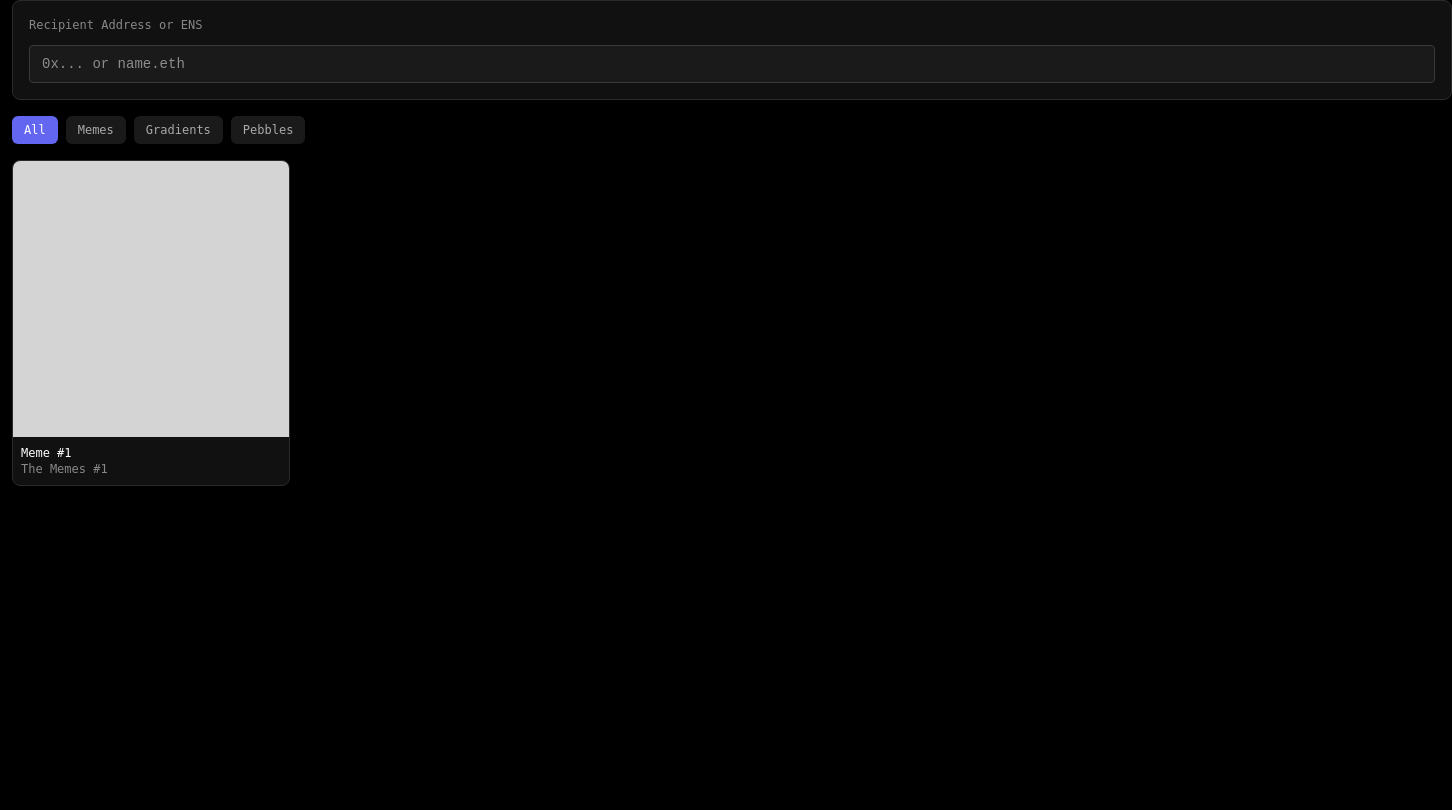
Test: TransferTab chain ID guard › blocks transfer and shows error on wrong chain
Note: Enter a recipient
Type "0xabcdefabcdefabcdefabcdefabcdefabcdefabcd" into the field with placeholder "0x... or name.eth" at (732, 64), box [29,45,1435,83]
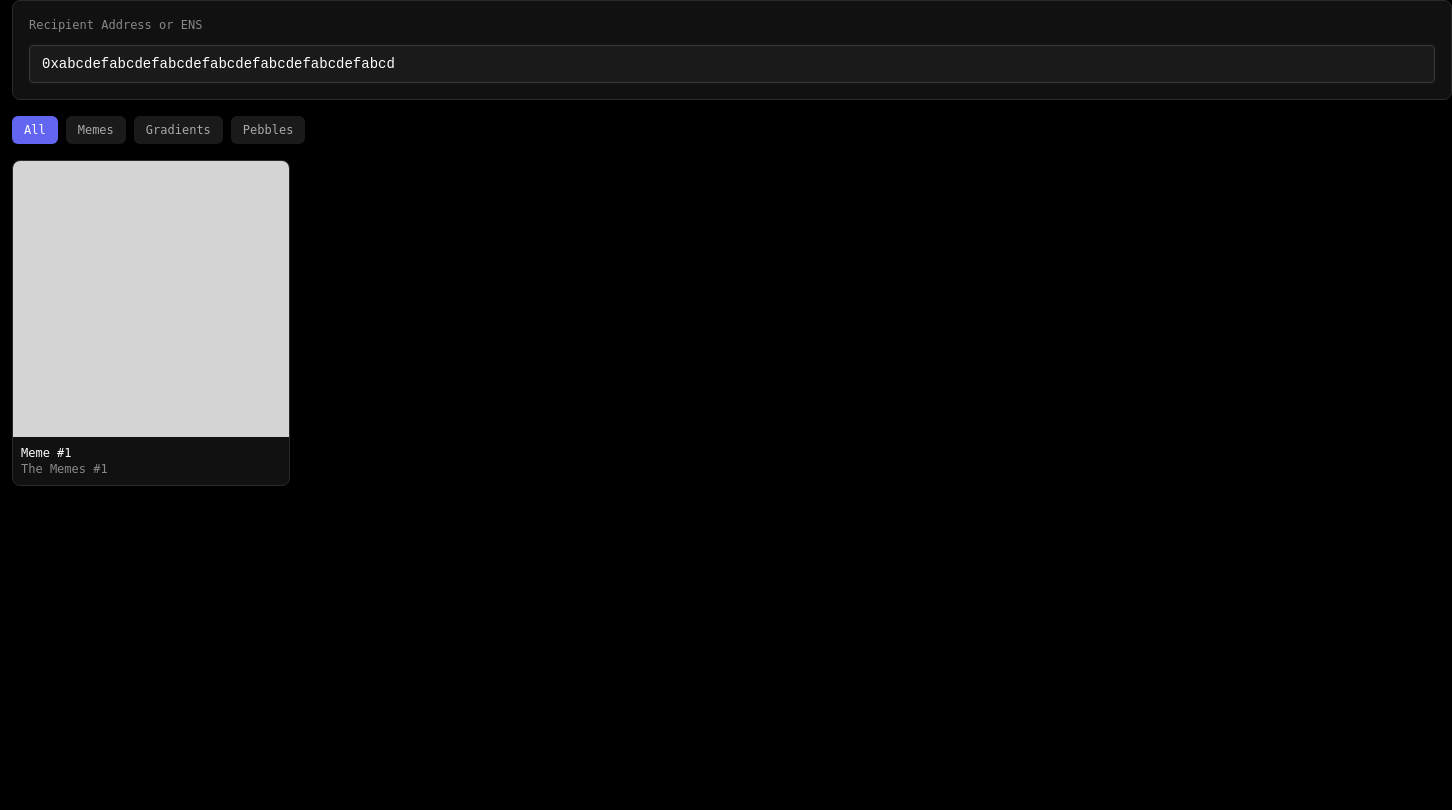
Note: Select an NFT by clicking on it
Click the text "Meme #1" at (46, 453), box [21,446,72,460]
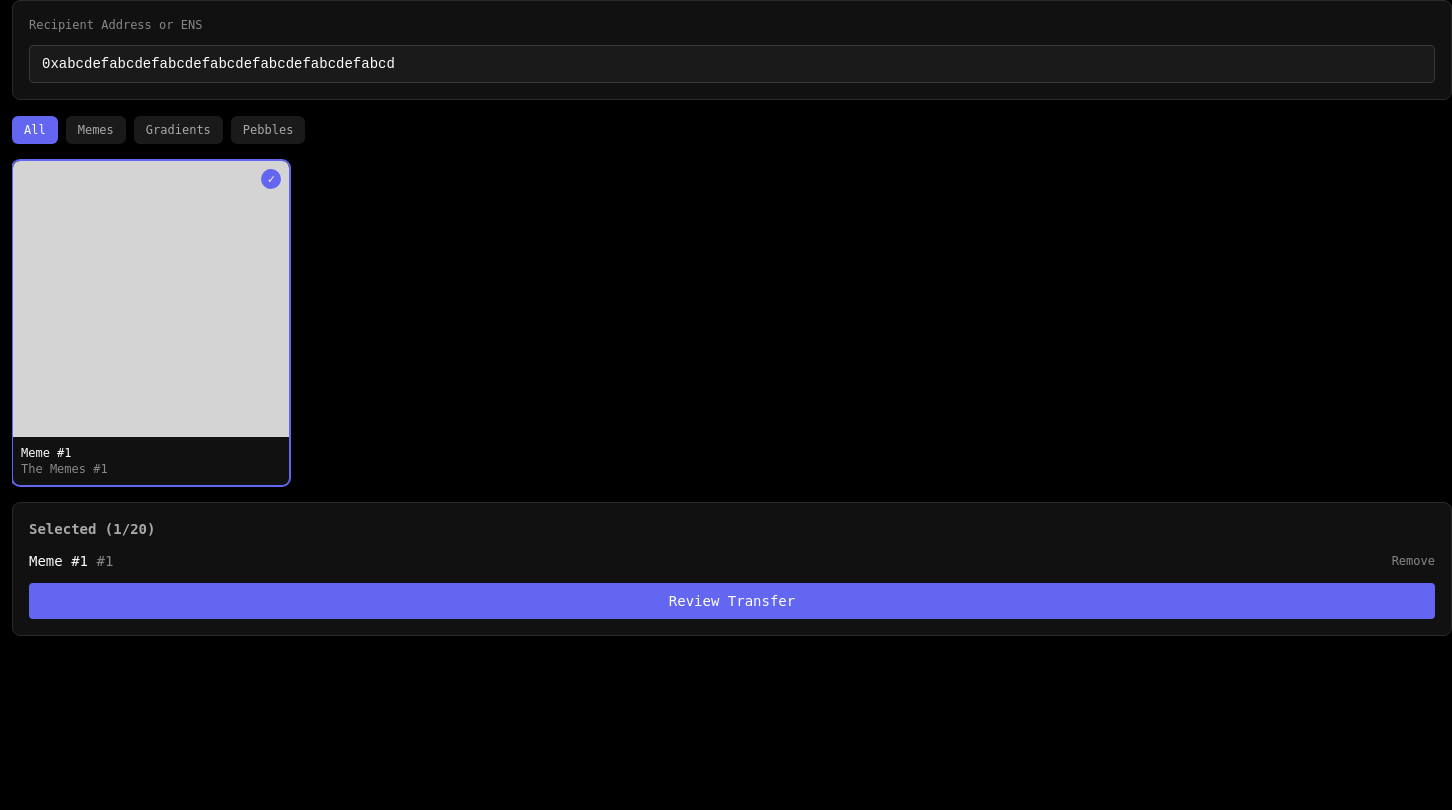
expect the button "Review Transfer" is shown: met
Click the button "Review Transfer" at (732, 601), box [29,583,1435,619]
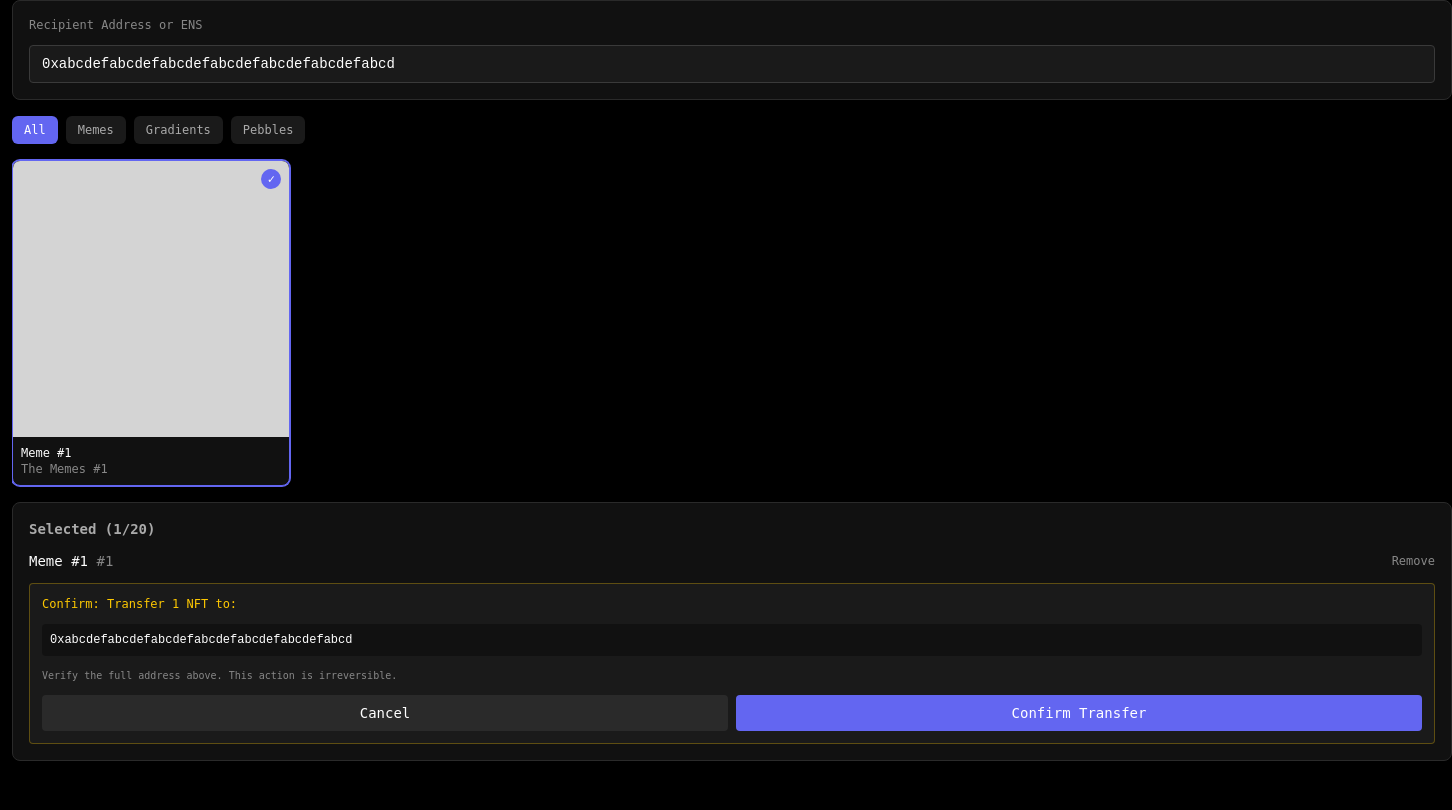
expect the button "Confirm Transfer" is shown: met
Click the button "Confirm Transfer" at (1079, 713), box [736,695,1422,731]
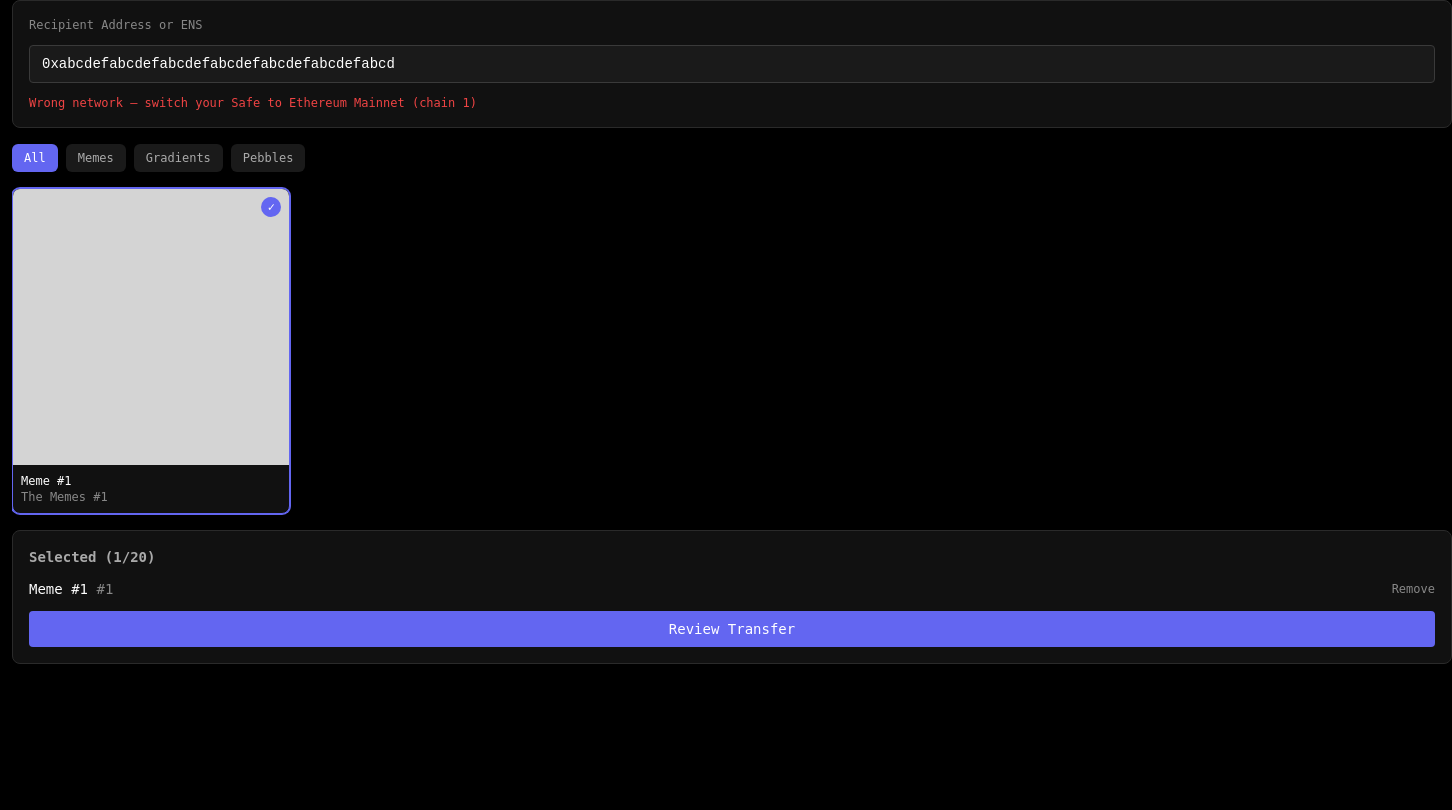
expect the text "Wrong network — switch your Safe to Ethereum Mainnet (chain 1)" is shown: met, box [29,96,477,110]
